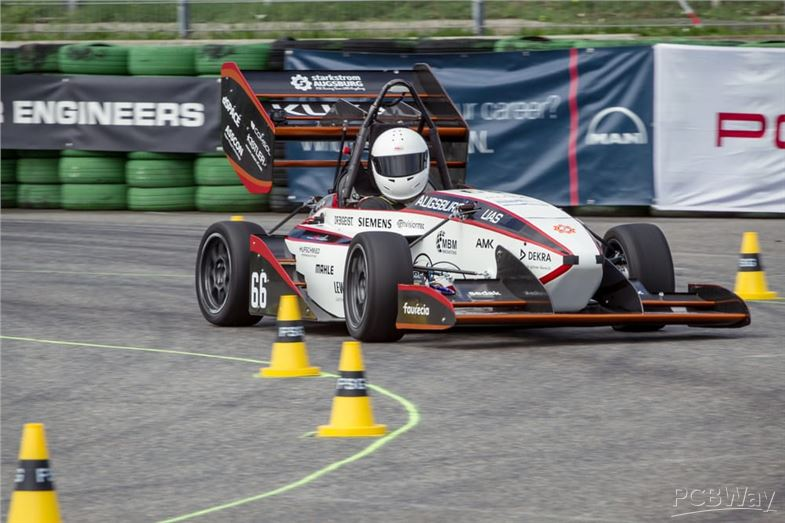cone: (309, 335, 392, 441), (3, 416, 75, 523), (253, 289, 328, 382), (718, 229, 785, 304)
